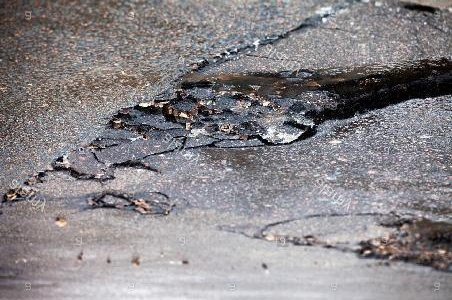pothole: (0, 3, 451, 209), (350, 214, 452, 275), (83, 189, 177, 219)
